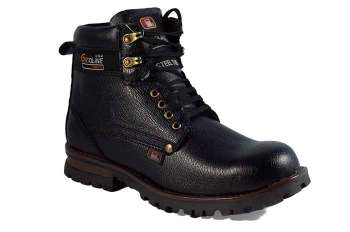Footwear: (54, 4, 315, 221)
